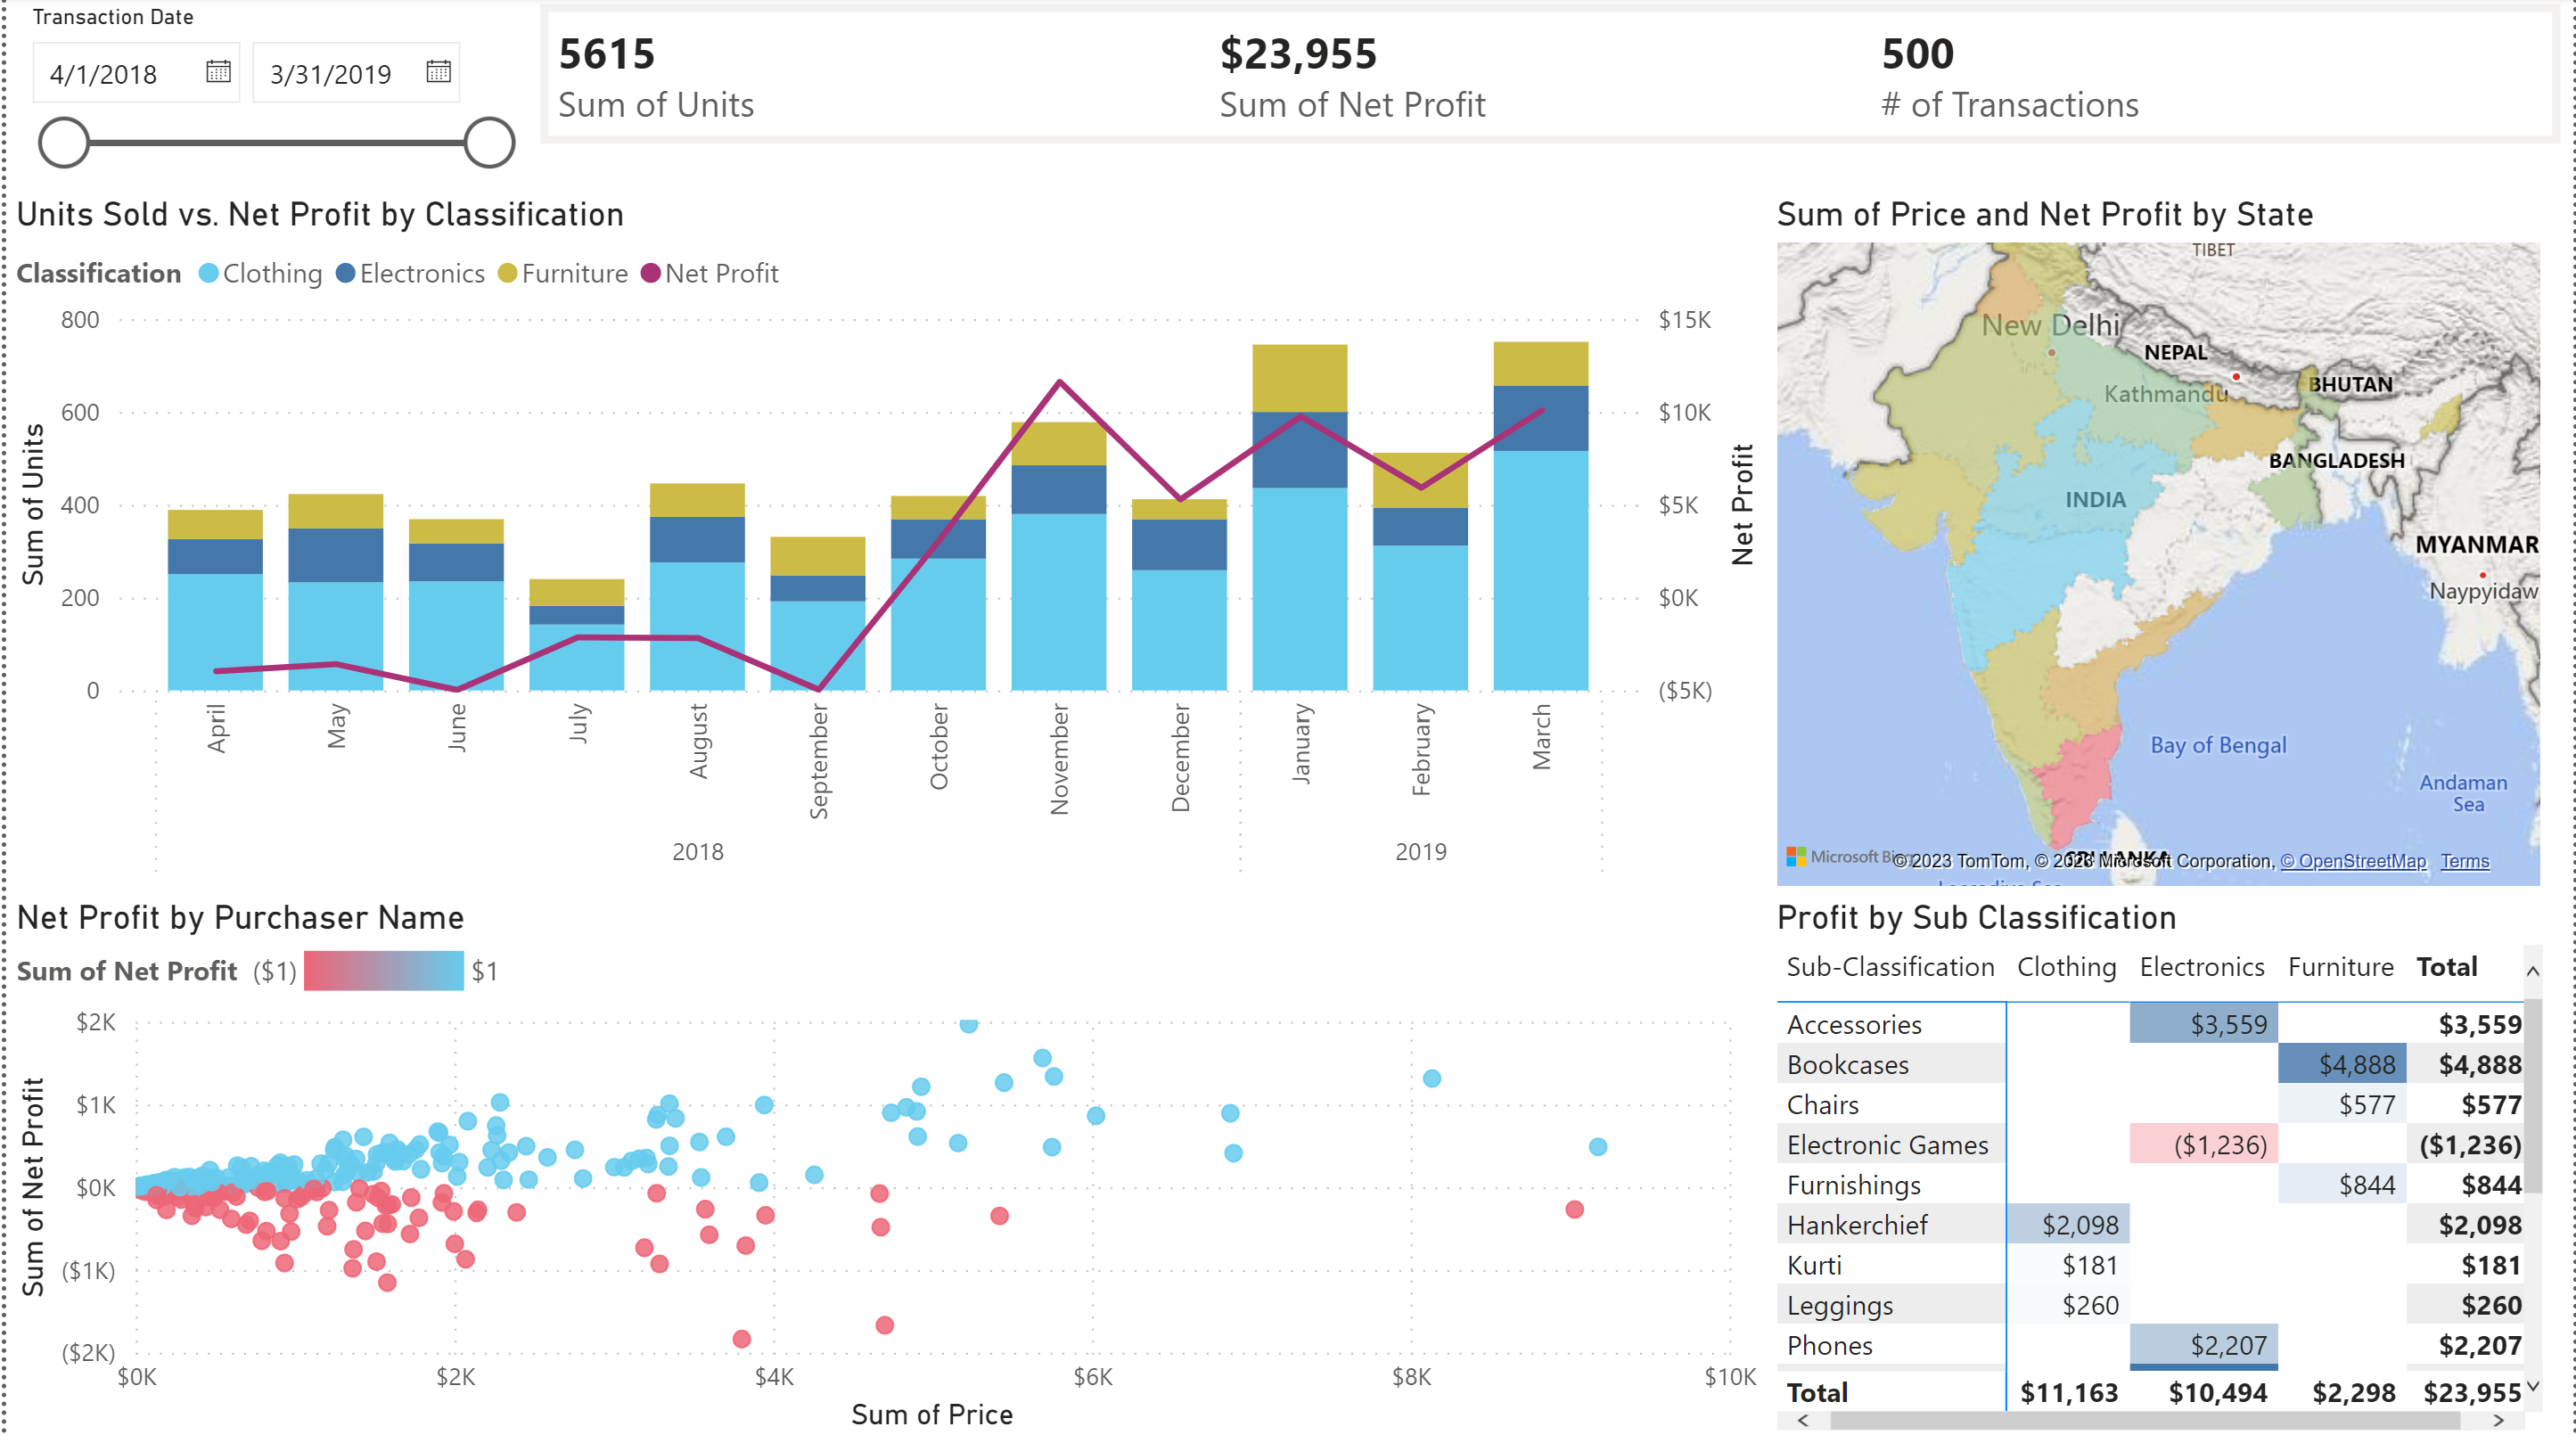

Layout of this report page (visuals, bound fields, positions):
{"tool":"powerbi","page":{"name":"Profit Analysis","canvas":[1280,720],"ordinal":0},"visuals":[{"type":"multiRowCard","fields":{"Values":["Order Details.Quantity","Order Details.Profit","Order Details.Order ID"]},"box":[261.6,0,1017.4,100],"z":0},{"type":"lineStackedColumnComboChart","title":"Units Sold vs. Net Profit by Classification","fields":{"Category":["List of Orders.Order Date.Variation.Date Hierarchy.Year","List of Orders.Order Date.Variation.Date Hierarchy.Month"],"Series":["Order Details.Category"],"Y2":["Order Details.Profit"],"Y":["Order Details.Units"]},"box":[0,100.2,878,349.4],"z":1000},{"type":"pivotTable","title":"Profit by Sub Classification","fields":{"Rows":["Order Details.Sub-Category"],"Columns":["Order Details.Category"],"Values":["Order Details.Profit"]},"box":[878,449.6,391.7,270.4],"z":2000},{"type":"scatterChart","title":"Net Profit by Purchaser Name","fields":{"X":["Order Details.Amount"],"Y":["Order Details.Profit"],"Category":["List of Orders.CustomerName"]},"box":[0,449.6,878,270.4],"z":3000},{"type":"filledMap","title":"Sum of Price and Net Profit by State","fields":{"Category":["List of Orders.State"]},"box":[878,100.2,390.6,349.4],"z":4000},{"type":"slicer","fields":{"Values":["List of Orders.Order Date"]},"box":[0,0,261.6,100],"z":5000}]}

Visuals, with their boxes in screenshot pixels (x1, y1, x2, y2), scaled from the page's 1280x720 canvas onto the 2576x1435 screenshot:
multiRowCard - Order Details.Quantity x Order Details.Profit: left=527, top=0, right=2574, bottom=200
"Units Sold vs. Net Profit by Classification" lineStackedColumnComboChart: left=0, top=200, right=1767, bottom=896
"Profit by Sub Classification" pivotTable: left=1767, top=896, right=2555, bottom=1434
"Net Profit by Purchaser Name" scatterChart: left=0, top=896, right=1767, bottom=1434
"Sum of Price and Net Profit by State" filledMap: left=1767, top=200, right=2553, bottom=896
slicer - List of Orders.Order Date: left=0, top=0, right=527, bottom=200
